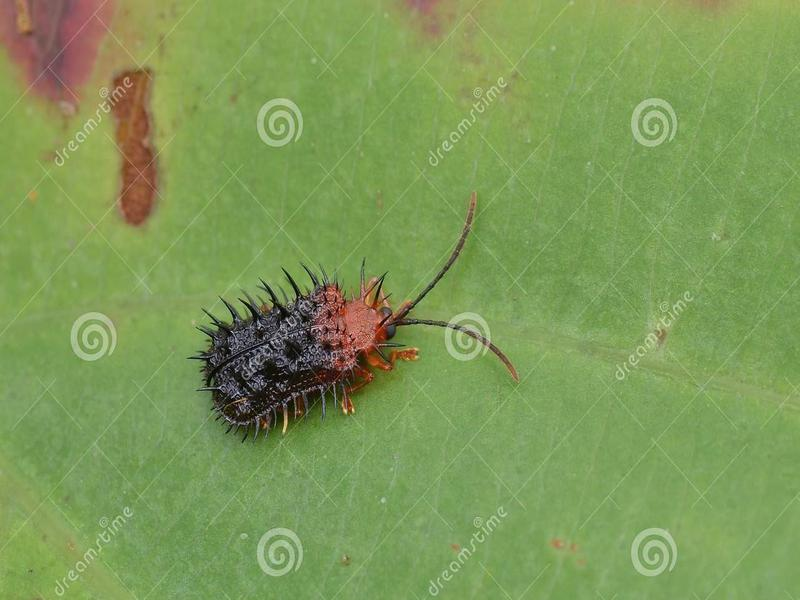Spiny_beetle: (176, 211, 417, 440)
